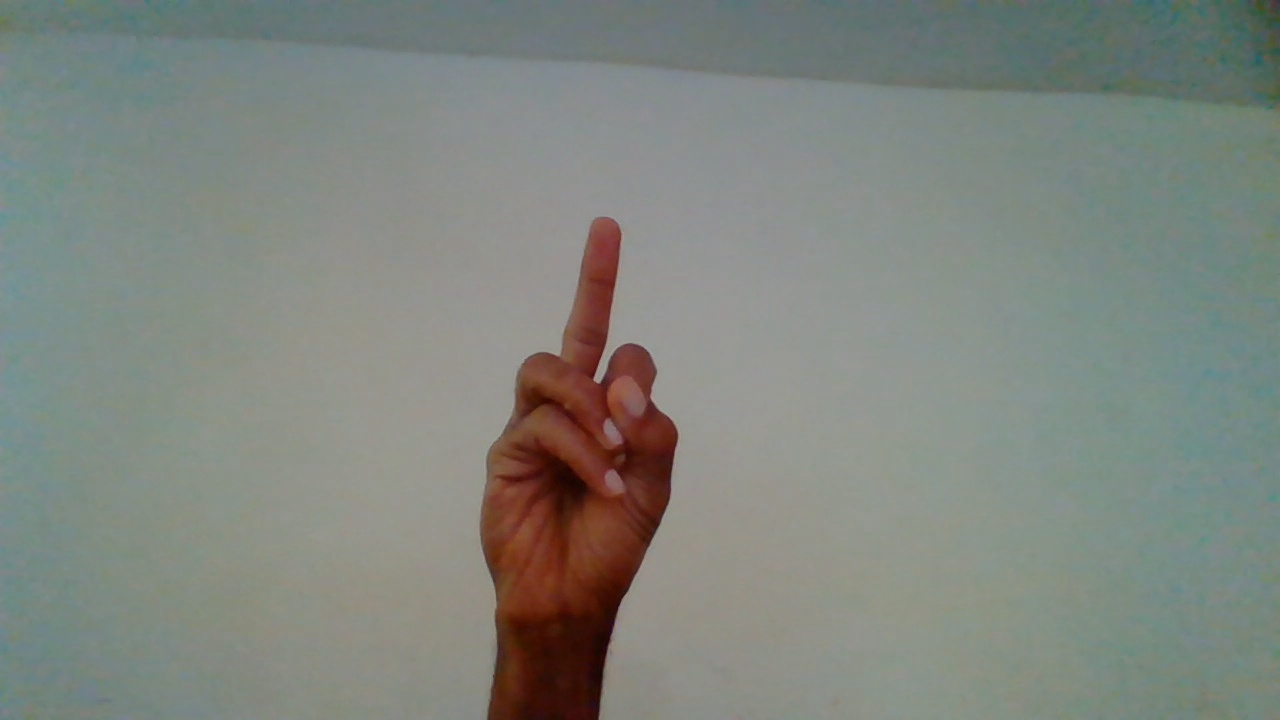he: (485, 217, 684, 720)
